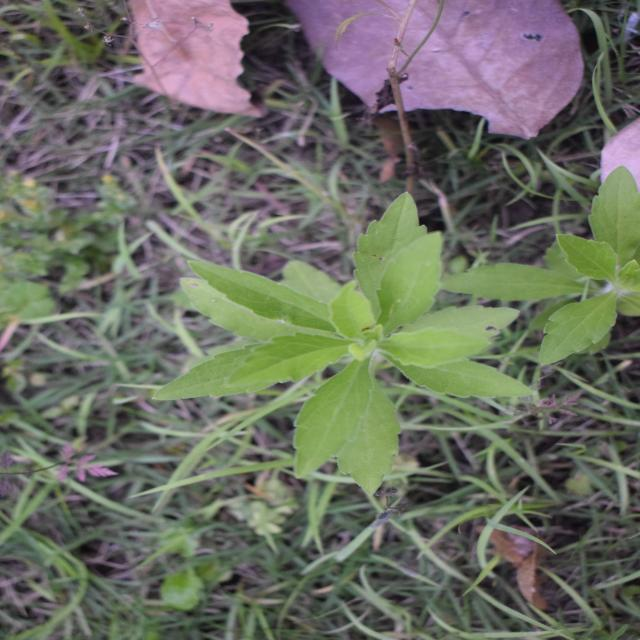horseweed: (164, 216, 426, 503)
